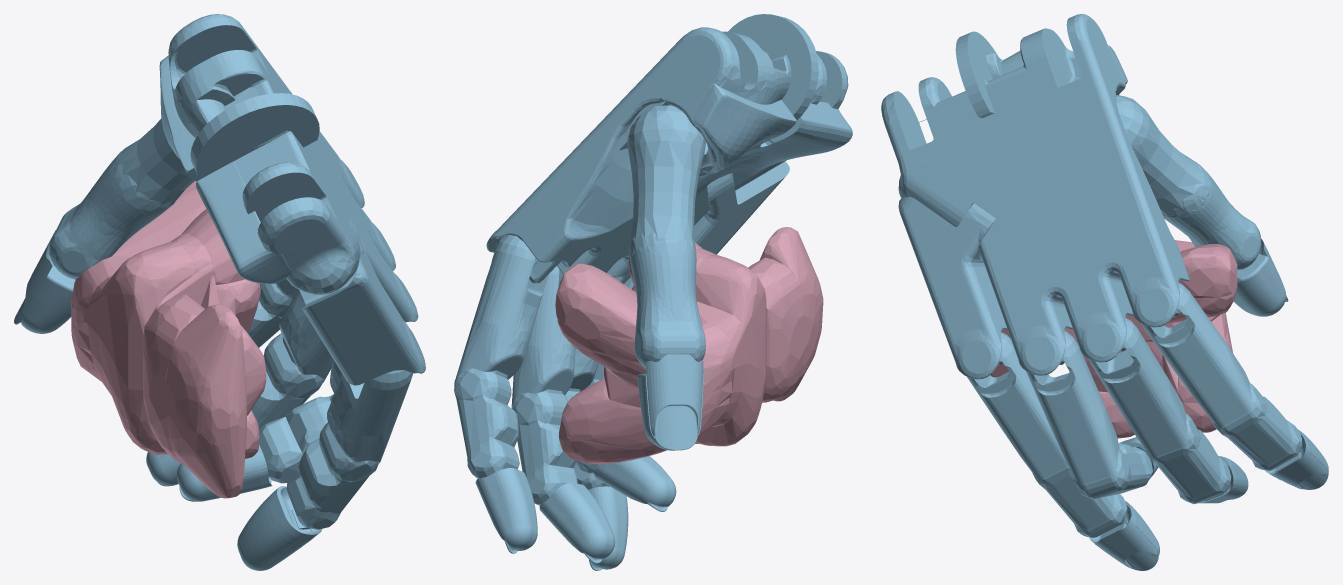
The picture shows the model from 3 angles, left to right: view 1: azimuth 30°, elevation 25°; view 2: azimuth 150°, elevation 25°; view 3: azimuth 270°, elevation 25°; orthographic projection. The views are drawn at different scales.
Visible parts, largest first — view 1: hand_isaac_q, world; view 2: hand_isaac_q, world; view 3: hand_isaac_q, world.
Boxes of the visible parts, box(x1,y1,x2,y2) form: hand_isaac_q: box(14, 14, 425, 570); world: box(71, 181, 266, 498); hand_isaac_q: box(454, 14, 852, 570); world: box(555, 227, 823, 464); hand_isaac_q: box(881, 14, 1328, 570); world: box(990, 240, 1237, 438).
Size of the model in its own units: 0.0977 by 0.1948 by 0.1526.
